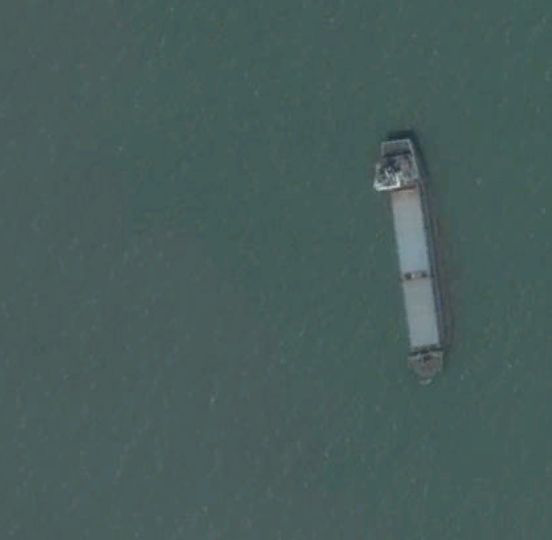boat: (373, 134, 452, 388)
